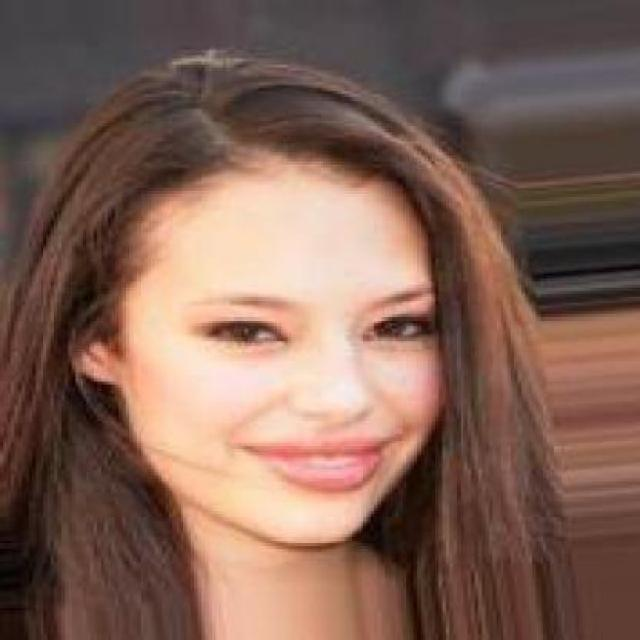closed-mouth: (240, 430, 402, 493)
